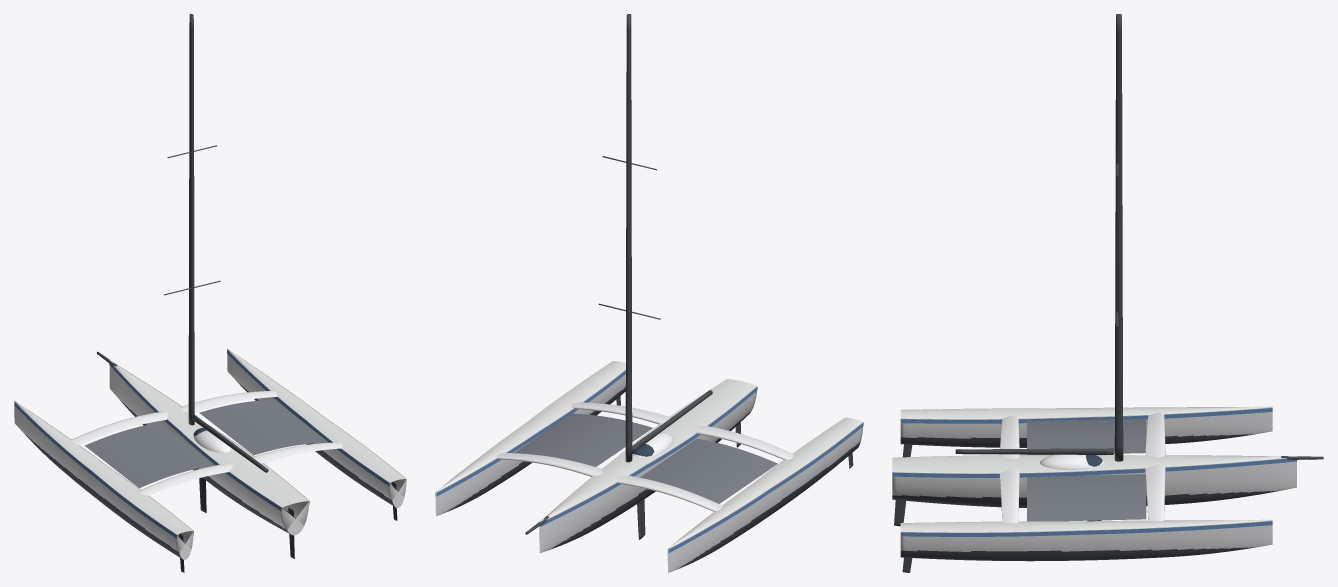
The model's file is olmix.glb.
3 renders of one model, left to right at view 1: azimuth 30°, elevation 25°; view 2: azimuth 150°, elevation 25°; view 3: azimuth 270°, elevation 25°, orthographic. The views are drawn at different scales.
Visible parts, largest first — view 1: filet, filet.001, centrale_pont, centrale_coque, flotteur_coque, flotteur_pont, flotteur_pont.001, pivot_mat, flotteur_coque.001, bras, bras.001, flotteur_fond (+7 smaller); view 2: filet, filet.001, centrale_pont, centrale_coque, flotteur_coque, flotteur_pont, flotteur_pont.001, pivot_mat, flotteur_coque.001, bras, bras.001, flotteur_fond (+6 smaller); view 3: flotteur_coque.001, centrale_coque, filet.001, flotteur_coque, centrale_pont, pivot_mat, filet, flotteur_pont.001, flotteur_pont, flotteur_fond.001, bras, centrale_fond (+7 smaller).
Part boxes in pixels (<box>): filet: <box>85,422,213,488</box>; filet.001: <box>199,399,327,455</box>; centrale_pont: <box>109,360,308,507</box>; centrale_coque: <box>109,365,309,535</box>; flotteur_coque: <box>14,402,193,559</box>; flotteur_pont: <box>14,401,193,534</box>; flotteur_pont.001: <box>227,348,405,482</box>; pivot_mat: <box>188,14,194,425</box>; flotteur_coque.001: <box>227,350,406,507</box>; bras: <box>70,390,277,444</box>; bras.001: <box>138,442,342,495</box>; flotteur_fond: <box>24,433,181,558</box>; filet: <box>640,438,777,503</box>; filet.001: <box>514,413,652,466</box>; centrale_pont: <box>540,379,756,521</box>; centrale_coque: <box>539,379,757,552</box>; flotteur_coque: <box>667,418,863,572</box>; flotteur_pont: <box>668,417,862,548</box>; flotteur_pont.001: <box>436,361,625,492</box>; pivot_mat: <box>625,14,632,462</box>; flotteur_coque.001: <box>435,361,625,516</box>; bras: <box>496,452,722,511</box>; bras.001: <box>570,402,793,459</box>; flotteur_fond: <box>677,441,860,569</box>; flotteur_coque.001: <box>900,520,1272,551</box>; centrale_coque: <box>892,455,1296,497</box>; filet.001: <box>1027,474,1146,521</box>; flotteur_coque: <box>900,407,1272,438</box>; centrale_pont: <box>892,455,1296,473</box>; pivot_mat: <box>1114,14,1123,461</box>; filet: <box>1027,418,1146,454</box>; flotteur_pont.001: <box>900,519,1272,532</box>; flotteur_pont: <box>900,406,1272,419</box>; flotteur_fond.001: <box>900,547,1255,561</box>; bras: <box>1145,412,1165,521</box>; centrale_fond: <box>892,490,1278,507</box>.
Bounding box in the file's own units: 23.21 × 46.39 × 34.1.
